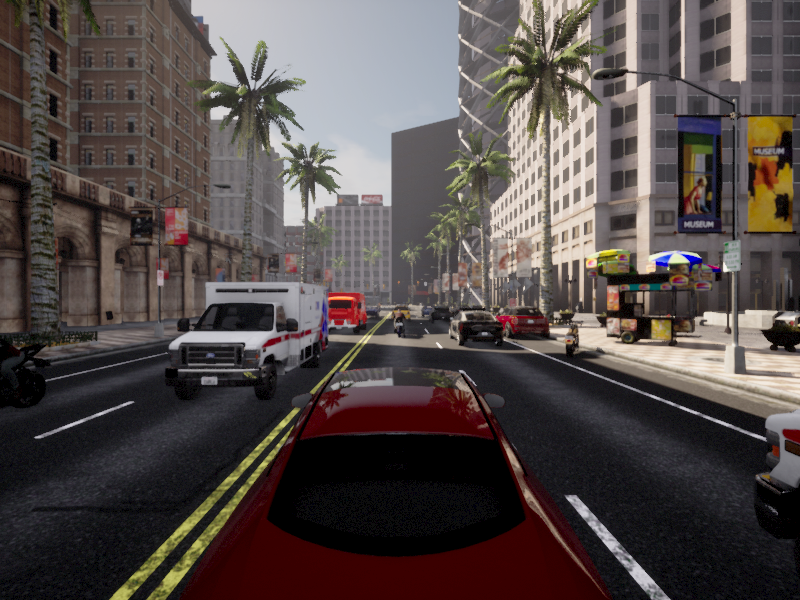vehicle: (145, 277, 331, 408), (446, 306, 508, 348), (238, 303, 302, 339), (316, 291, 368, 334), (428, 305, 454, 324), (391, 313, 407, 338), (323, 304, 346, 319), (390, 304, 410, 321), (360, 305, 380, 318)
